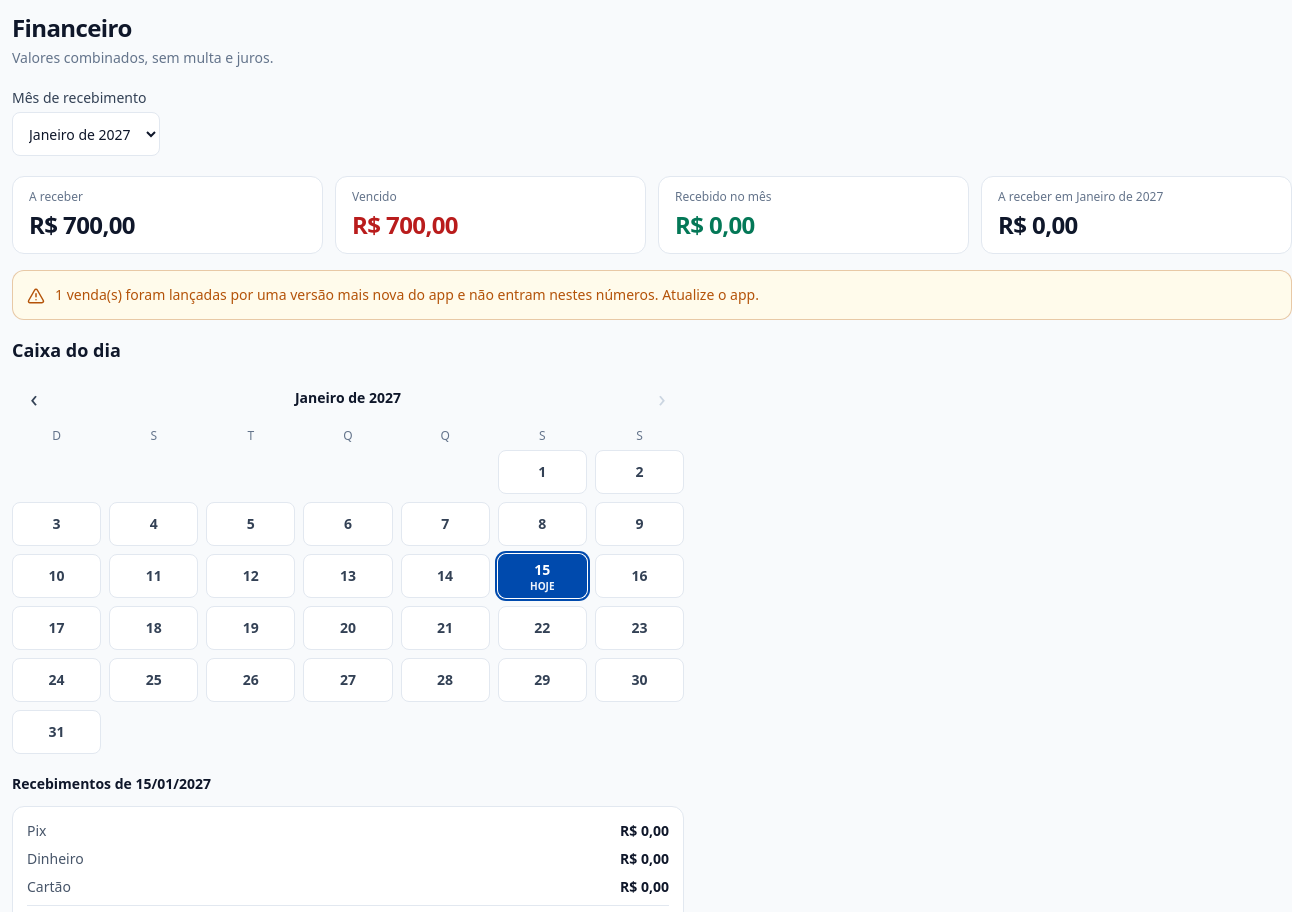
FinanceiroPage — caixa do dia › navega só do mês mais antigo ao atual, inclusive na virada do ano
Check: the button named "Próximo mês" is disabled, box [640, 376, 684, 420]
Click the button named "Mês anterior".
click(34, 398)  # box [12, 376, 56, 420]
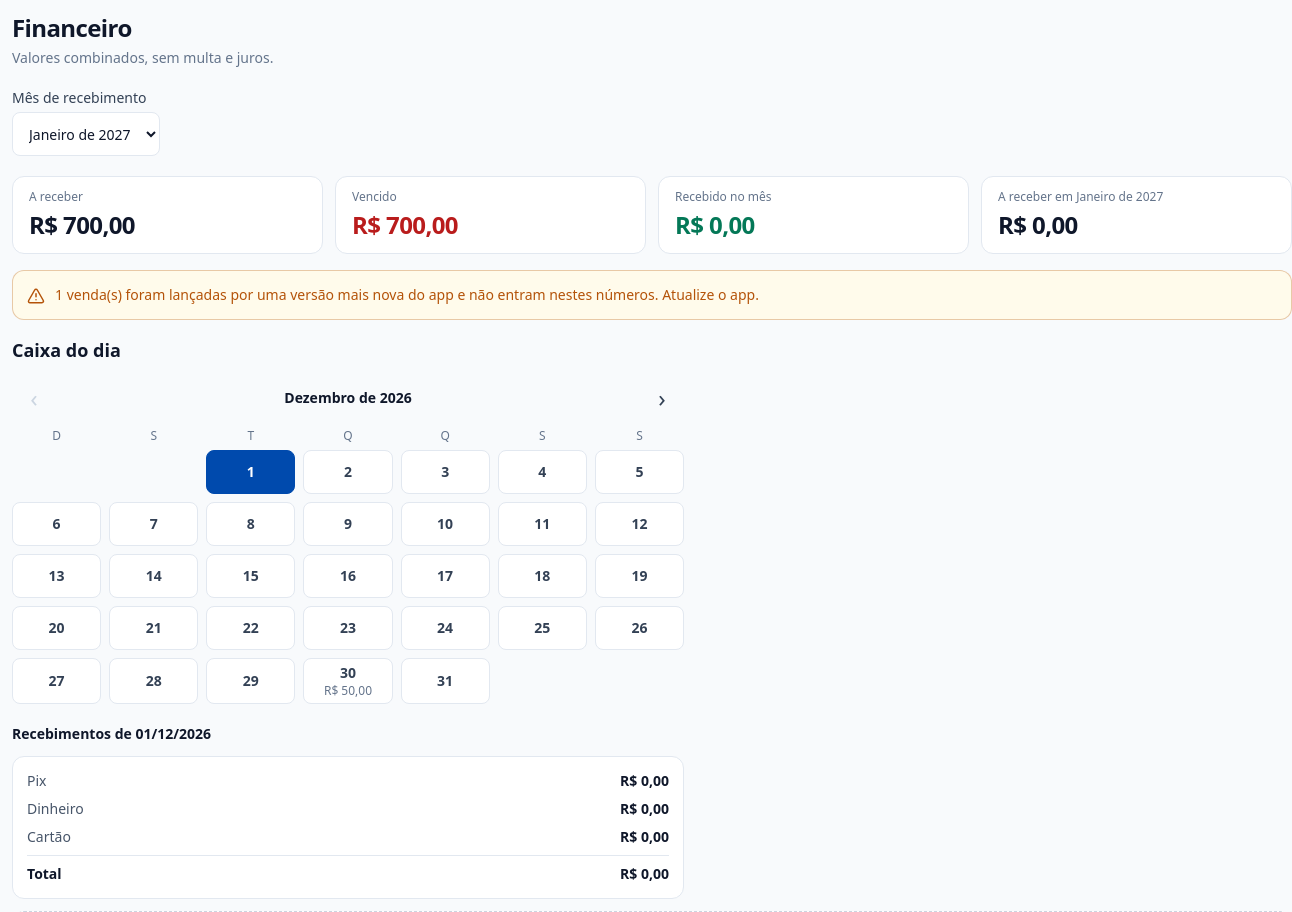
Check: the element named "Dezembro de 2026" is shown, box [12, 450, 684, 704]
Click the button named "Próximo mês".
click(662, 398)  # box [640, 376, 684, 420]
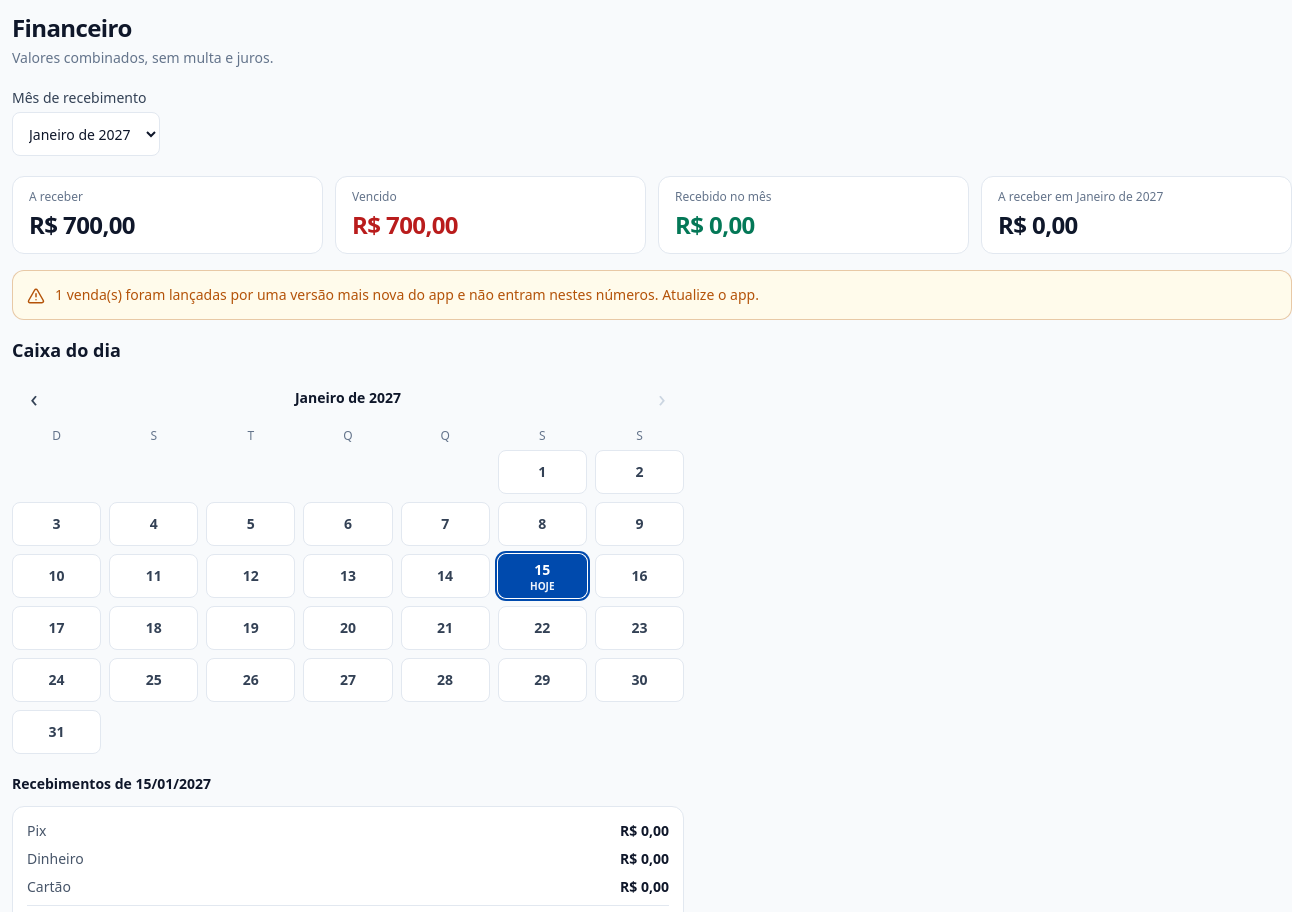
Check: the element named "Janeiro de 2027" is shown, box [12, 450, 684, 754]
